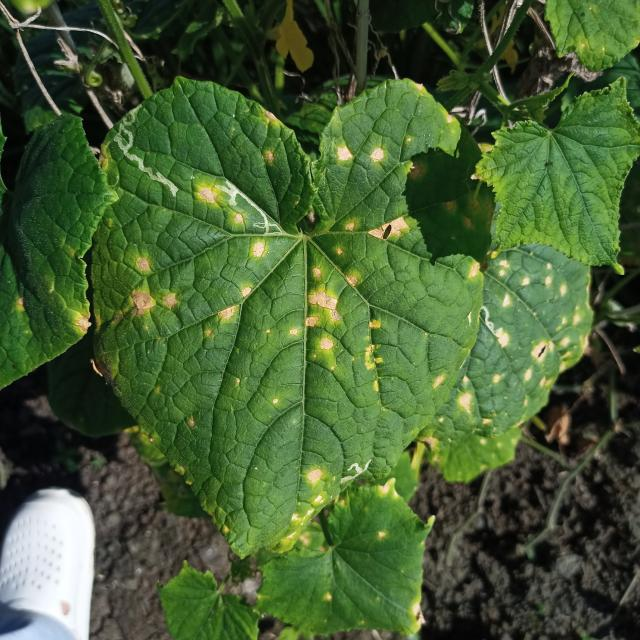disease_cucumber: (79, 142, 480, 395), (458, 244, 588, 437), (284, 456, 334, 540)
